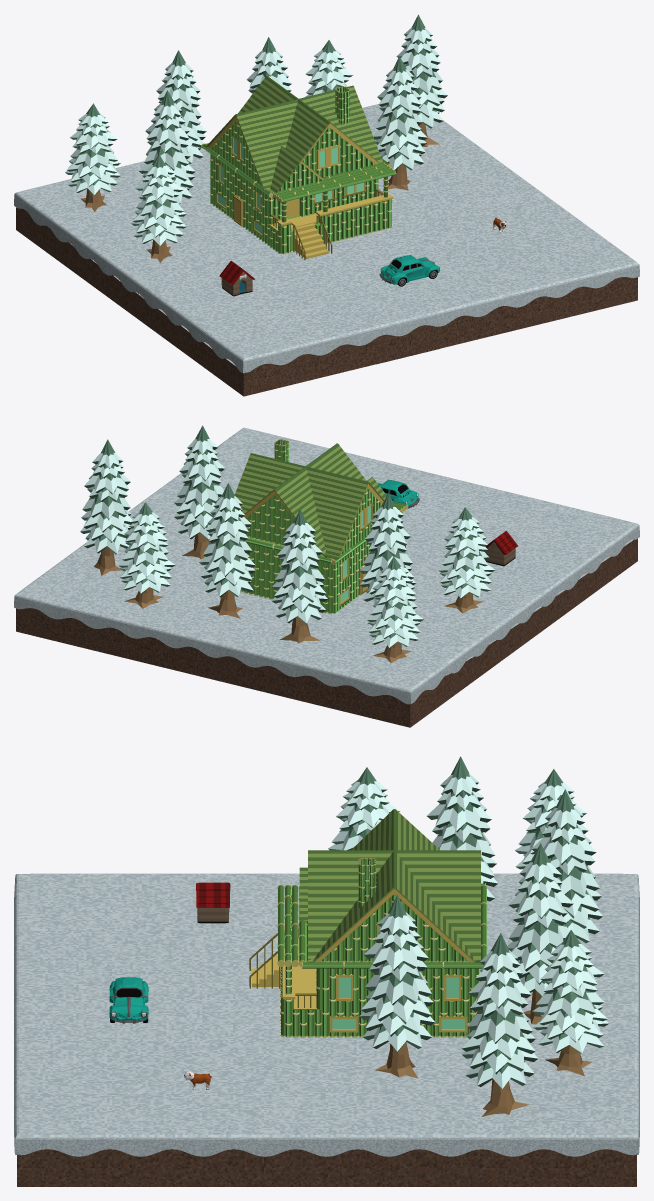
The picture shows the model from 3 angles, top to bottom: view 1: azimuth 30°, elevation 25°; view 2: azimuth 150°, elevation 25°; view 3: azimuth 270°, elevation 25°; orthographic projection. The views are drawn at different scales.
Visible parts, largest first — view 1: Cube.003, Cube.1327, VEHICLES_VOLKSWAGEN, OBJRANDOM_DOGHOUSE; view 2: Cube.003, Cube.1327, OBJRANDOM_DOGHOUSE, VEHICLES_VOLKSWAGEN; view 3: Cube.003, Cube.1327, VEHICLES_VOLKSWAGEN, OBJRANDOM_DOGHOUSE.
Boxes of the visible parts, x1=… form: Cube.003: x1=14, y1=14, x2=639, y2=396; Cube.1327: x1=201, y1=76, x2=396, y2=260; VEHICLES_VOLKSWAGEN: x1=379, y1=255, x2=440, y2=286; OBJRANDOM_DOGHOUSE: x1=219, y1=261, x2=254, y2=296; Cube.003: x1=14, y1=425, x2=639, y2=727; Cube.1327: x1=234, y1=439, x2=408, y2=613; OBJRANDOM_DOGHOUSE: x1=485, y1=531, x2=517, y2=566; VEHICLES_VOLKSWAGEN: x1=377, y1=479, x2=419, y2=508; Cube.003: x1=14, y1=756, x2=639, y2=1186; Cube.1327: x1=249, y1=809, x2=487, y2=1037; VEHICLES_VOLKSWAGEN: x1=109, y1=977, x2=148, y2=1023; OBJRANDOM_DOGHOUSE: x1=196, y1=882, x2=230, y2=923.
Size of the model in its own units: 4040 by 1692 by 4040.
Materials: 39 (4 with a texture image).
